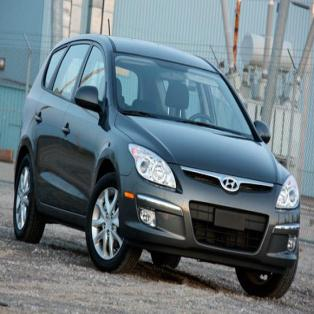Auto: (13, 17, 302, 300)
